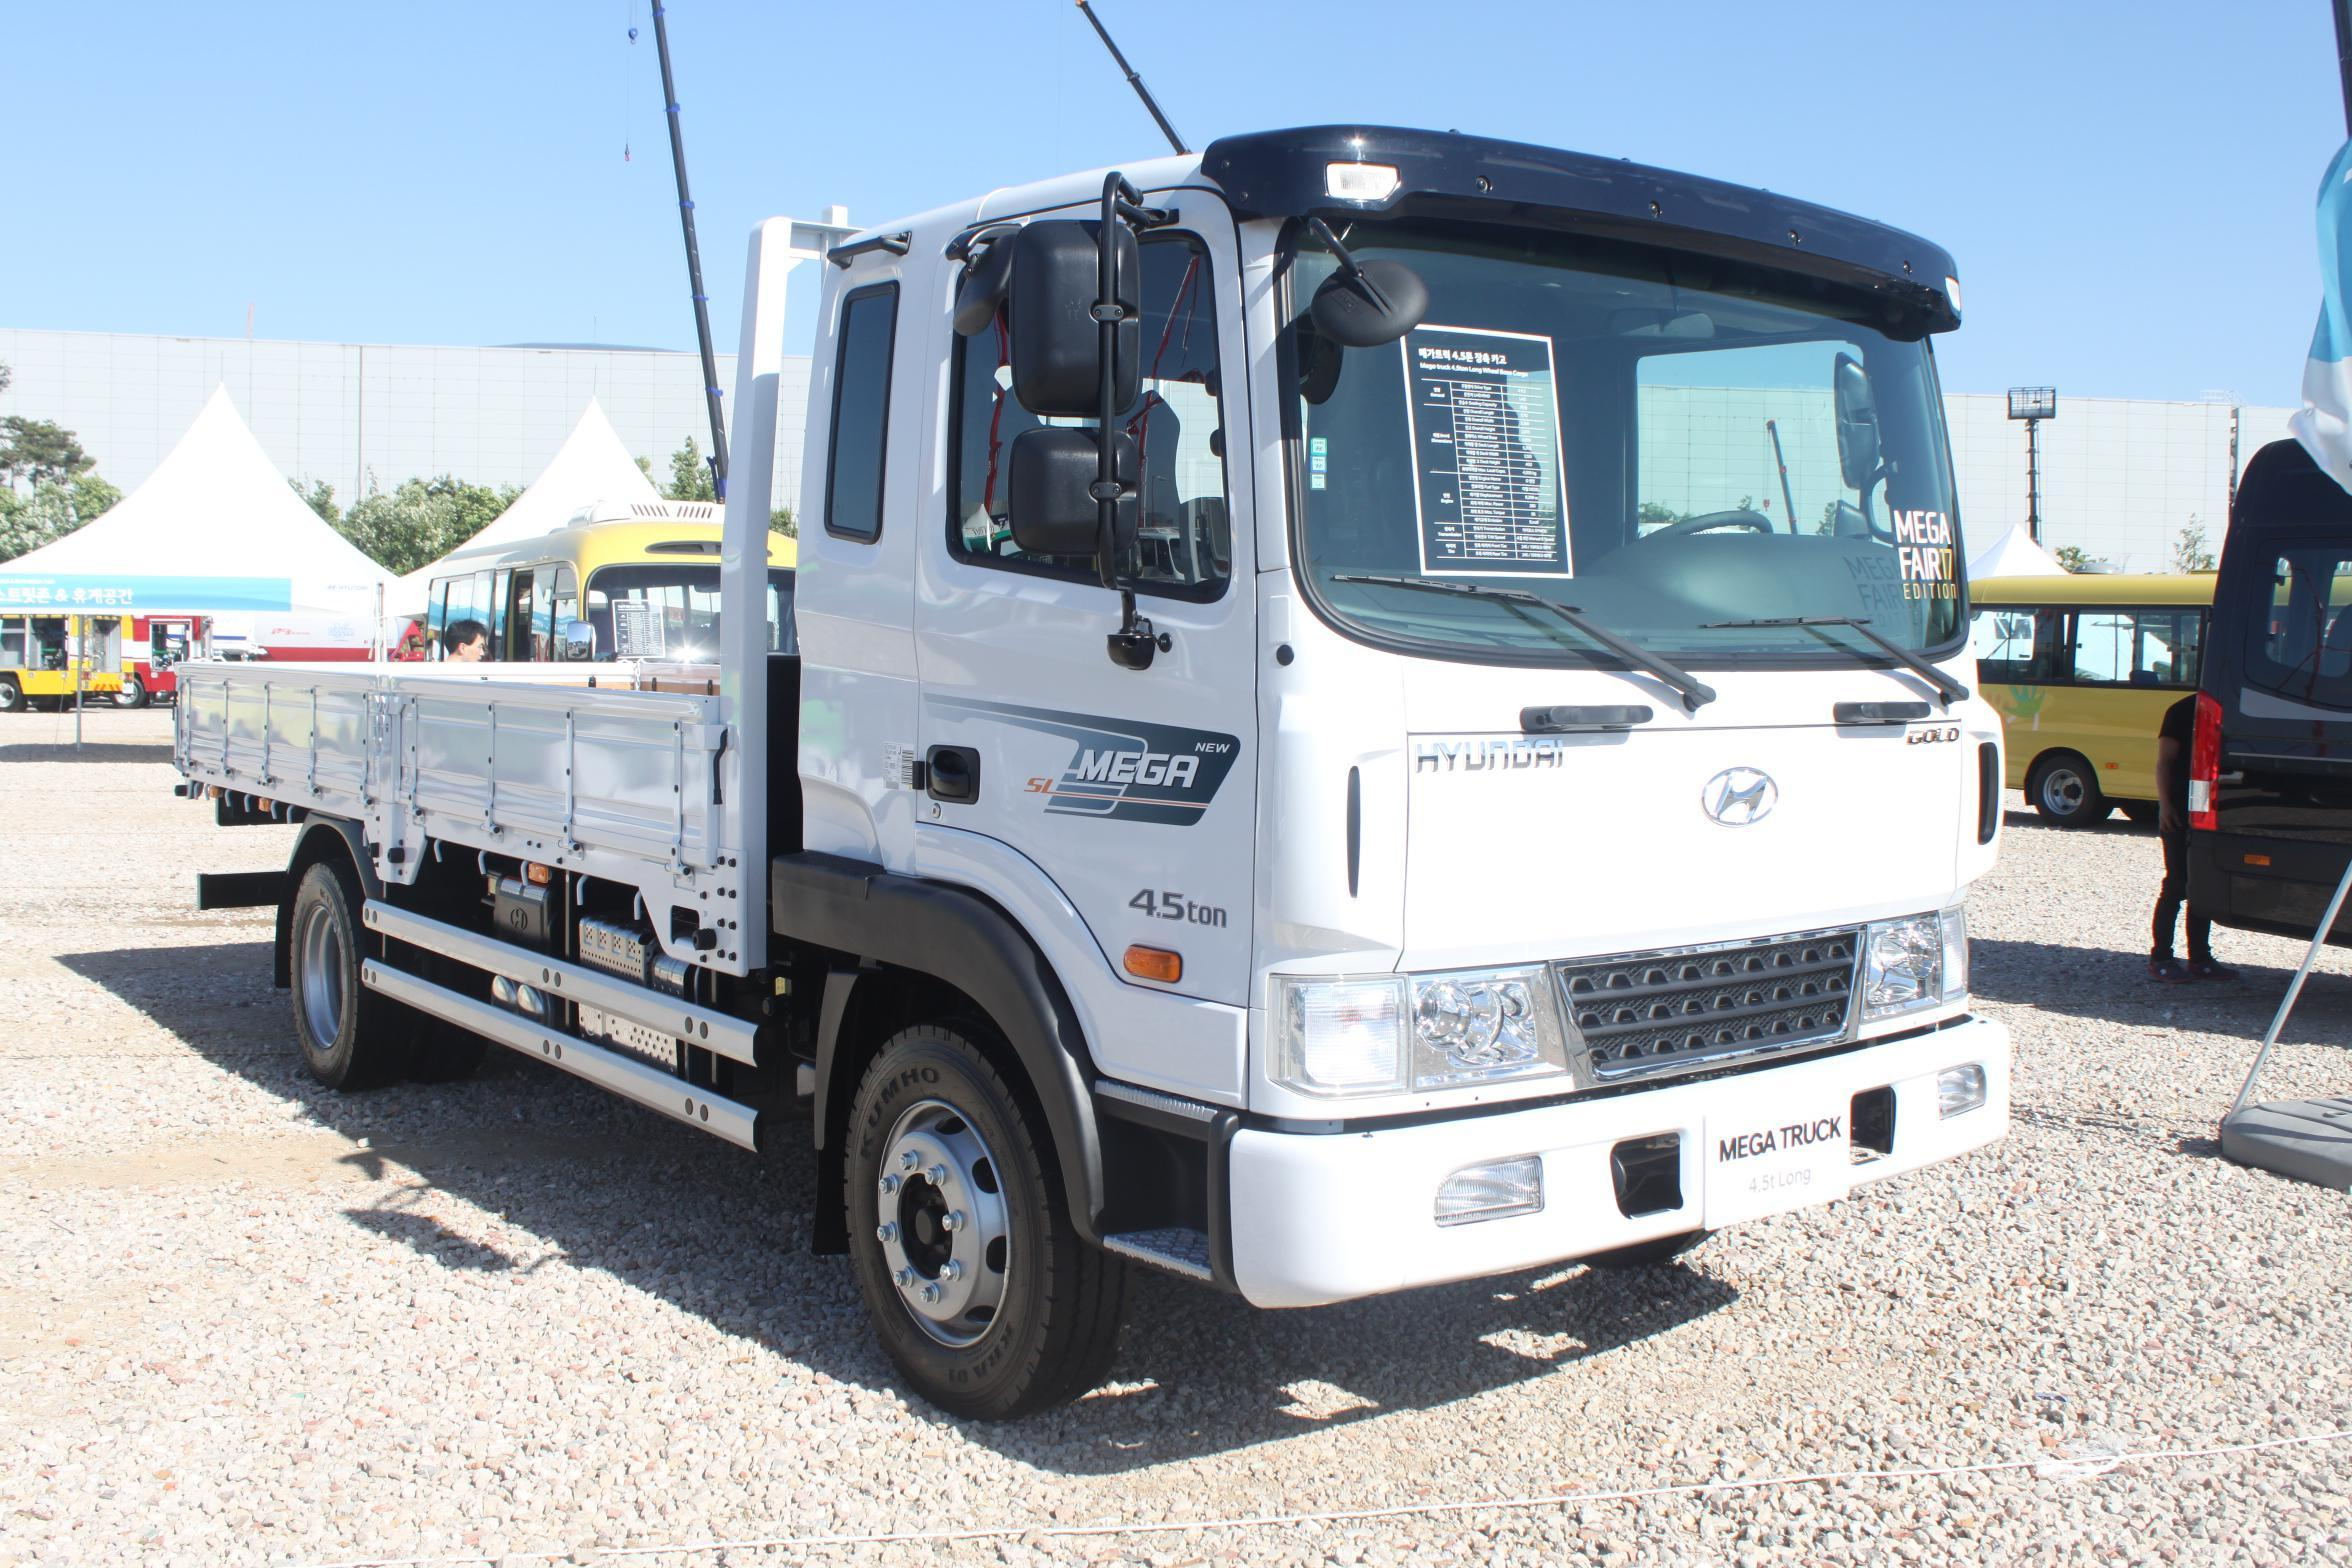Person: (445, 621, 494, 665)
Truck: (180, 133, 2005, 1416)
